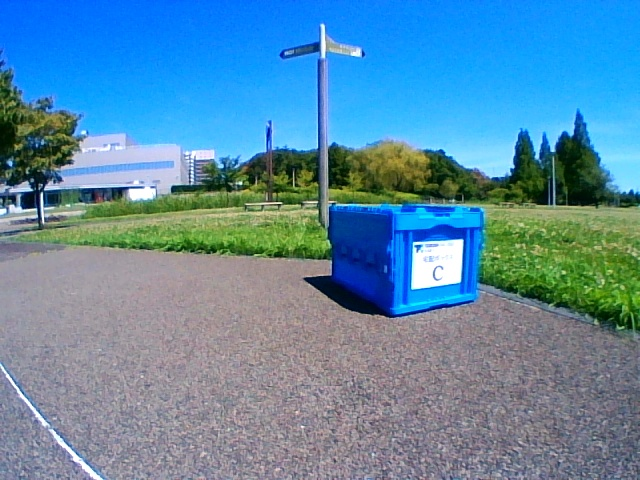blue_box: (329, 204, 482, 316)
tag_c: (413, 243, 460, 284)
